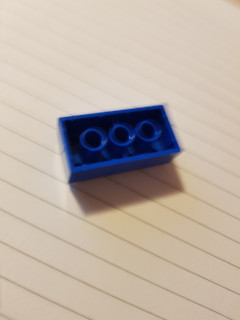2x4 blue: (55, 103, 186, 191)
